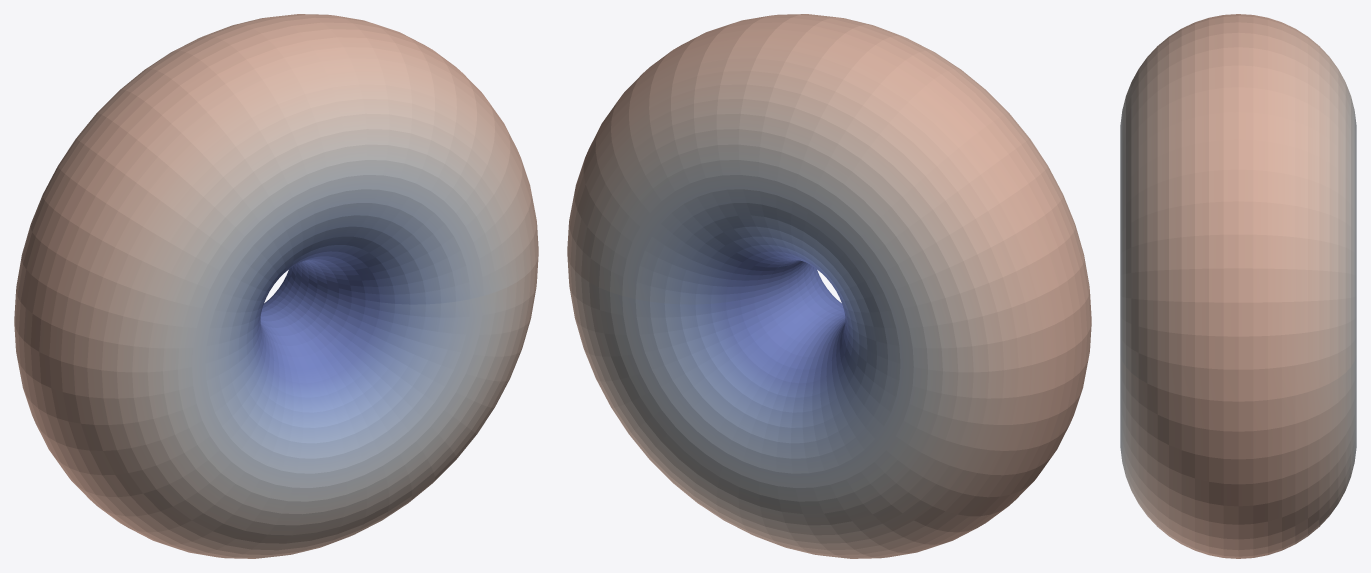
3 renders of one model, left to right at view 1: azimuth 30°, elevation 25°; view 2: azimuth 150°, elevation 25°; view 3: azimuth 270°, elevation 25°, orthographic. The views are drawn at different scales.
Parts seen in each view (by area): view 1: world; view 2: world; view 3: world.
Boxes of the visible parts, x1,y1,x2,y2 form: world: [14, 14, 538, 558]; world: [567, 14, 1091, 558]; world: [1120, 14, 1356, 558].
Size of the model in its own units: 21.2 by 21.16 by 9.18.
